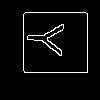Y: (26, 21, 73, 58)
